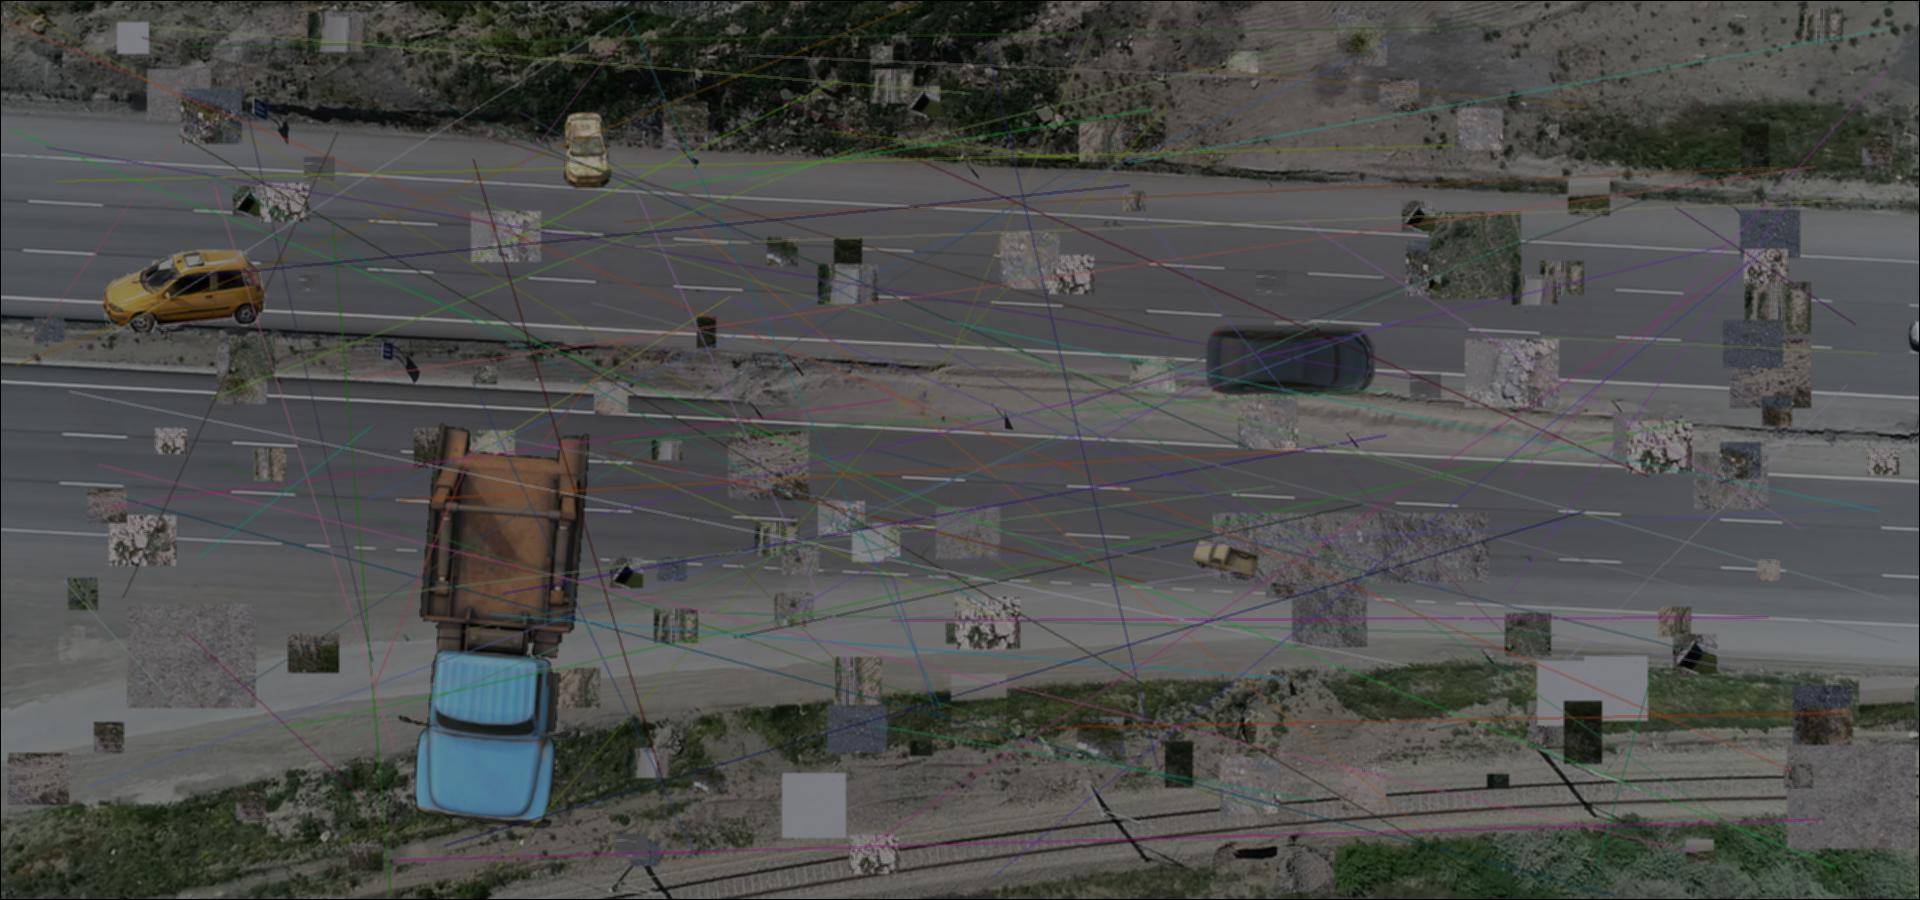arac: (399, 418, 599, 834), (104, 250, 271, 332), (1202, 321, 1375, 397), (563, 111, 612, 192), (1191, 538, 1259, 580)
